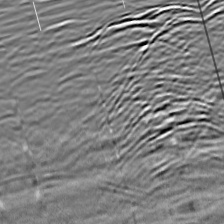cavities: (87, 0, 207, 52), (127, 95, 220, 145)
